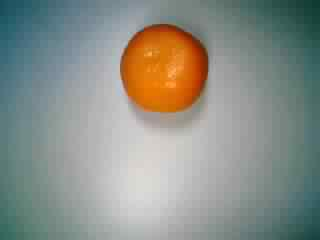orange: (114, 21, 212, 119)
